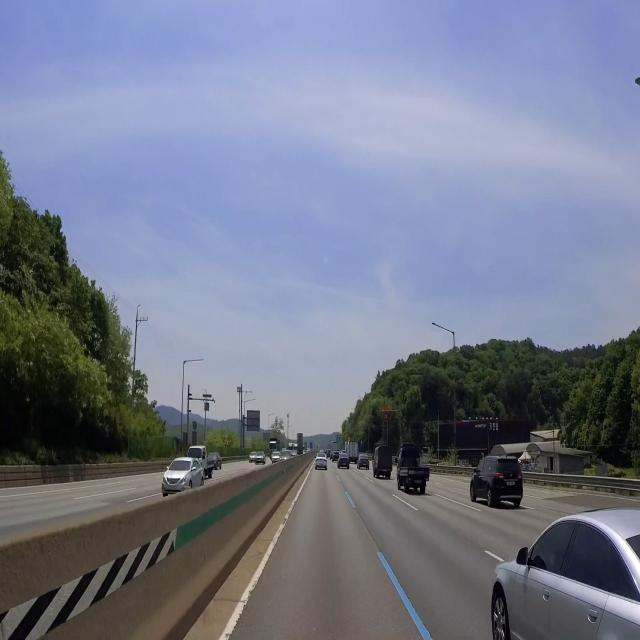car: (505, 479, 518, 489), (413, 478, 424, 488), (166, 484, 178, 492), (340, 462, 349, 469), (382, 467, 388, 474), (318, 462, 324, 468), (362, 463, 368, 467)
